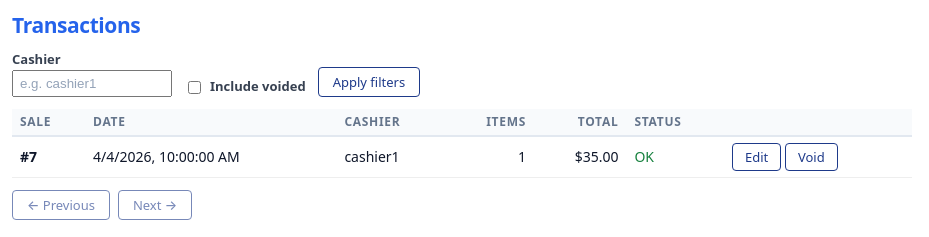
TransactionsPage › filters per cashier when provided
Expected: the text "#7" is shown, [12, 136, 85, 177]
Type "cashier2" into the field named "filter by cashier". click: [92, 83]
box: [12, 70, 172, 97]
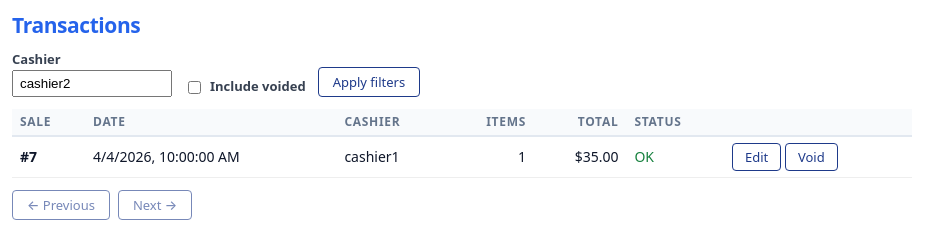
Click the button "Apply filters". click: [369, 82]
box: [318, 67, 420, 97]
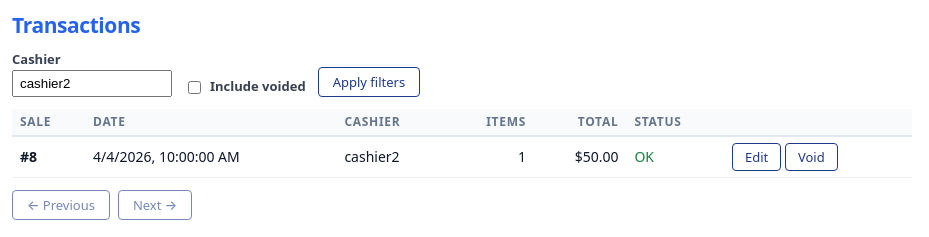
Result: the text "#8" is shown at [12, 136, 85, 177]
Result: the text "#7" is gone
